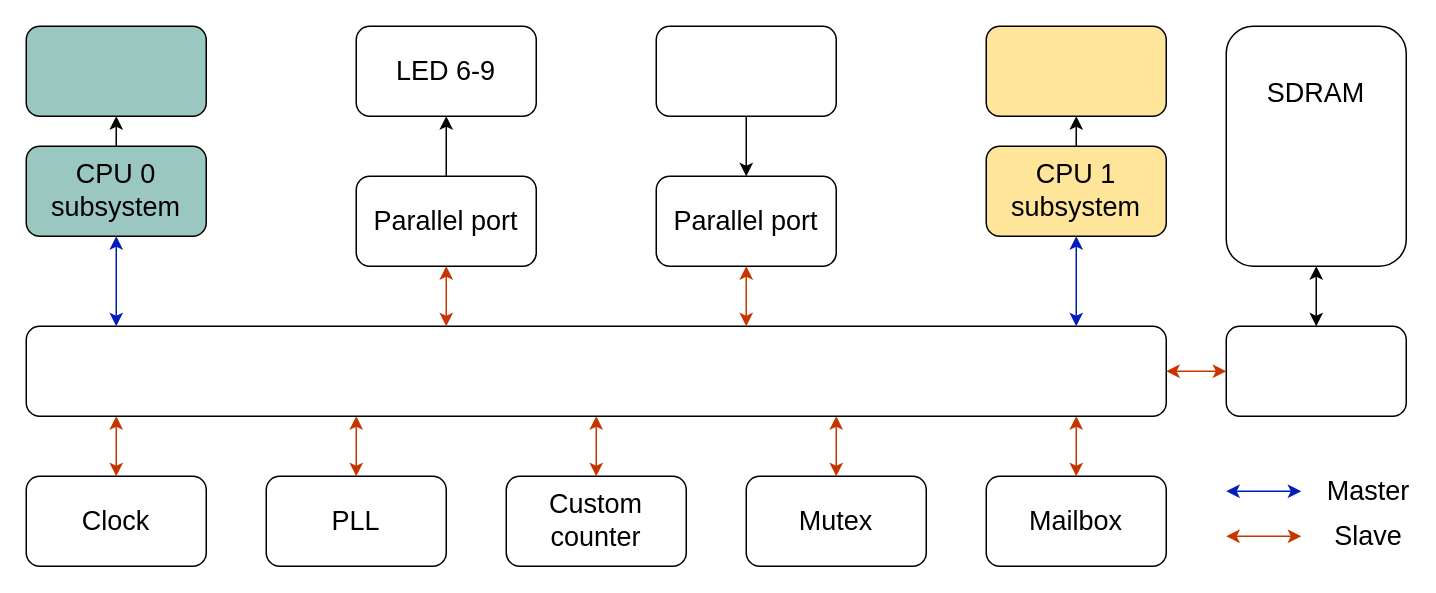
Image size: 1436x593. Some labels were removed from this diagram. The shapes that lost their labels are listed below. From the top down, each one's centre as x and y in pixels, then its label:
the point at 115,70: LED 0-2
the point at 745,70: Switches
the point at 1075,70: LED 3-5
the point at 595,370: Common Avalon bus
the point at 1315,370: SDRAM controller
